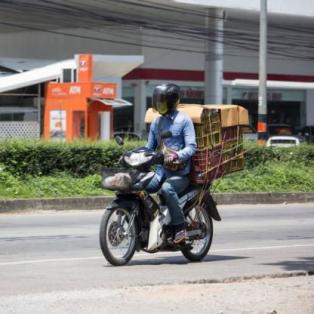Motocicleta: (94, 140, 220, 269)
